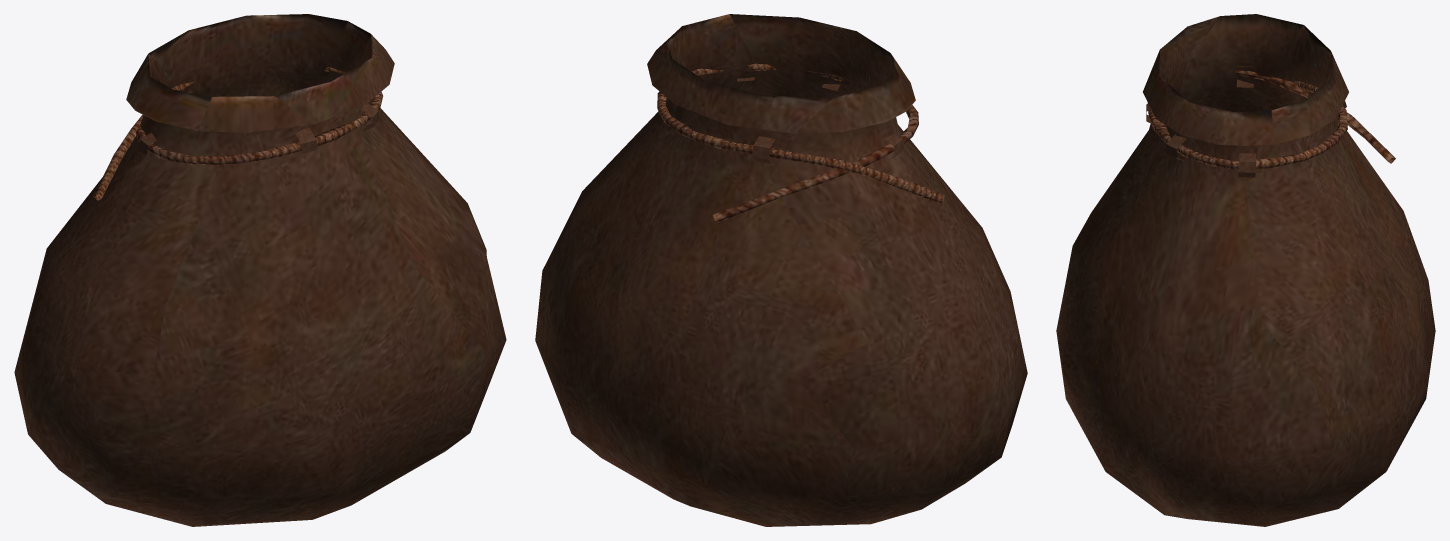
File: Coin_Bag.glb
3 renders of one model, left to right at view 1: azimuth 30°, elevation 25°; view 2: azimuth 150°, elevation 25°; view 3: azimuth 270°, elevation 25°, orthographic. The views are drawn at different scales.
Parts seen in each view (by area): view 1: Coin_Bag; view 2: Coin_Bag; view 3: Coin_Bag.
Part boxes in pixels (bbox=[...]): Coin_Bag: bbox=[14, 14, 506, 526]; Coin_Bag: bbox=[535, 14, 1027, 526]; Coin_Bag: bbox=[1056, 14, 1435, 526].
Size of the model in its own units: 0.5003 by 0.45 by 0.3768.
1 material, 1 textured.
